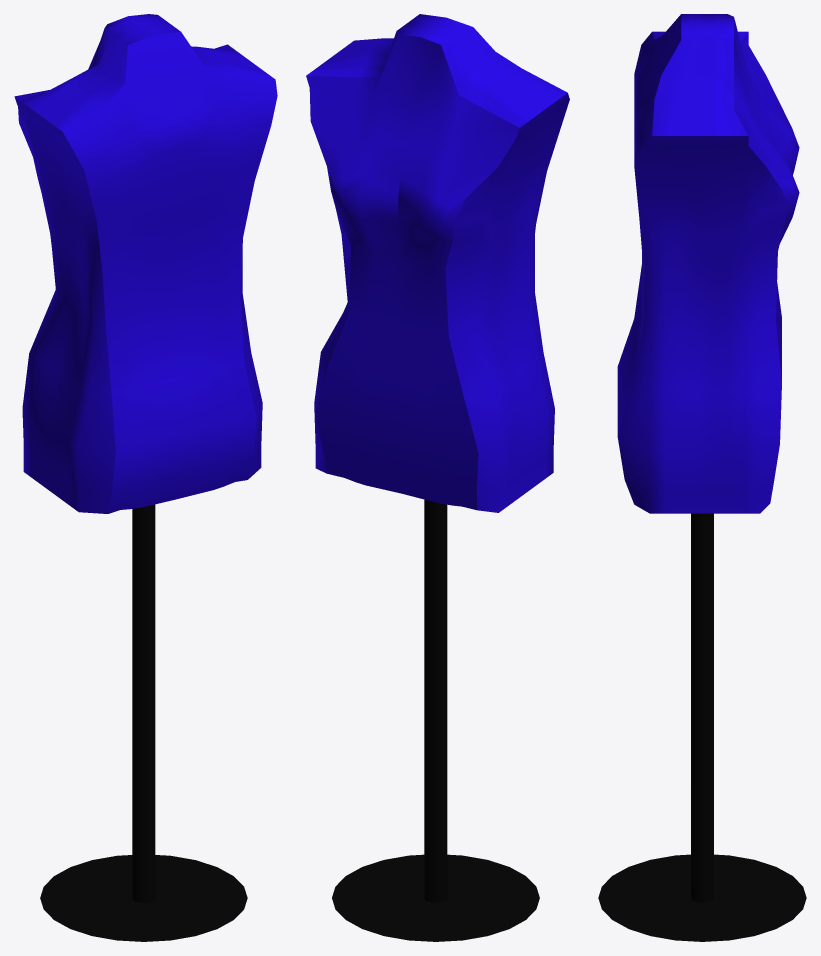
The model's file is Mannequin.fbx.
3 renders of one model, left to right at view 1: azimuth 30°, elevation 25°; view 2: azimuth 150°, elevation 25°; view 3: azimuth 270°, elevation 25°, orthographic.
Parts seen in each view (by area): view 1: Mannequin1; view 2: Mannequin1; view 3: Mannequin1.
Part boxes in pixels (x1,y1,x2,y2): Mannequin1: (14,14,277,941); Mannequin1: (306,14,569,941); Mannequin1: (598,14,806,941).
Size of the model in its own units: 8.4 by 32.84 by 7.08.
